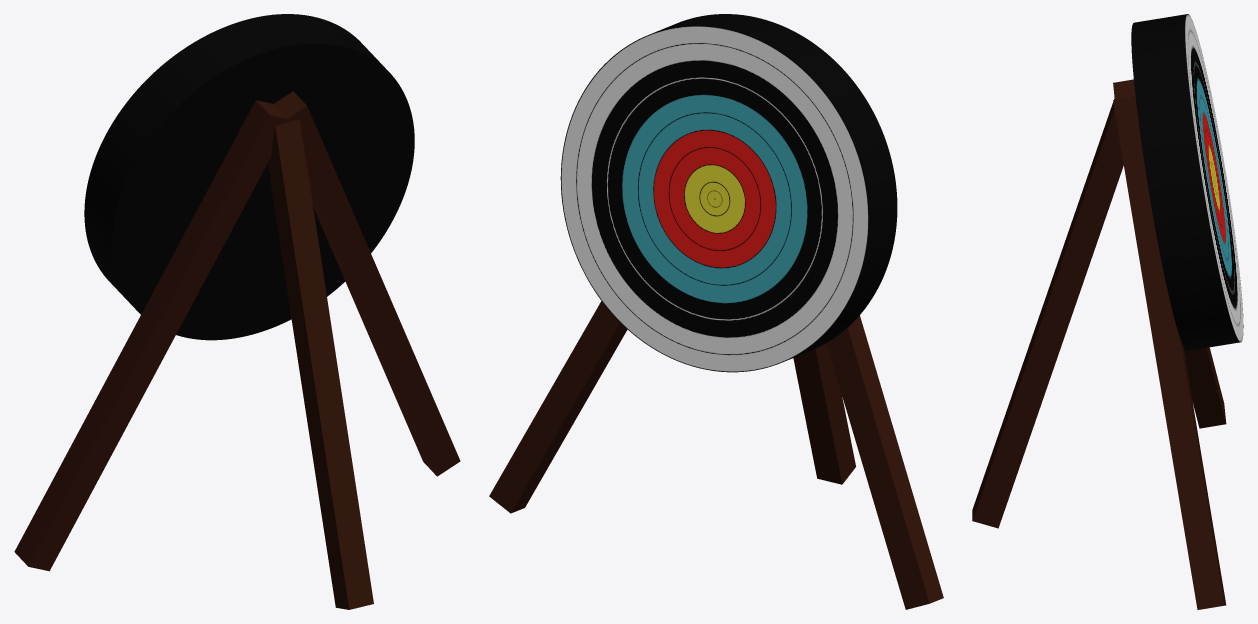
The picture shows the model from 3 angles, left to right: view 1: azimuth 30°, elevation 25°; view 2: azimuth 150°, elevation 25°; view 3: azimuth 270°, elevation 25°; orthographic projection. The views are drawn at different scales.
Parts seen in each view (by area): view 1: Target_0; view 2: Target_0; view 3: Target_0.
Part boxes in pixels (<box>): Target_0: <box>14,14,460,609</box>; Target_0: <box>489,14,943,609</box>; Target_0: <box>972,14,1243,609</box>.
Bounding box in the file's own units: 3.51 × 3.99 × 1.99.
Materials: 3 (1 with a texture image).
